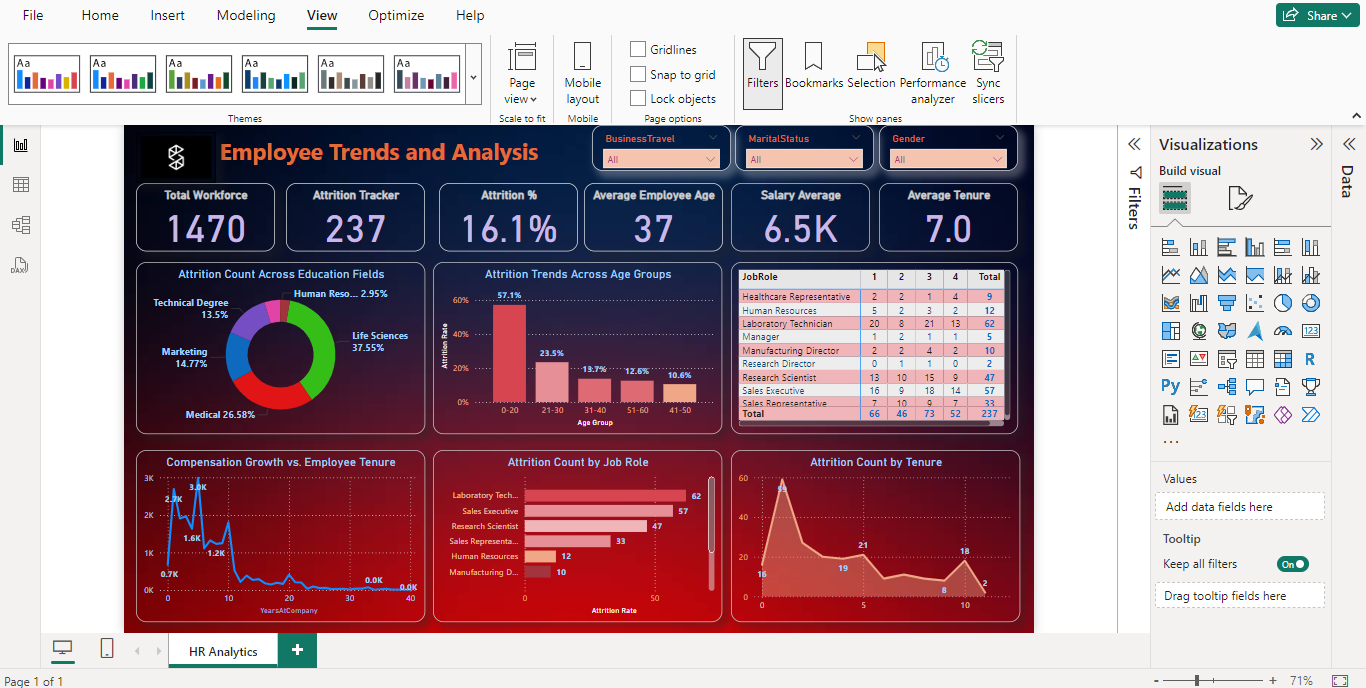

The dashboard page shown, as its layout file describes it:
{"tool":"powerbi","page":{"name":"HR Analytics","canvas":[1290,720],"ordinal":0},"visuals":[{"type":"card","title":"Total Workforce","fields":{"Values":["Sum(HR Data.EmployeeCount)"]},"box":[16.8,82.3,196.5,97.4],"z":0},{"type":"card","title":"Attrition Tracker","fields":{"Values":["Sum(HR Data.Attrition_rate)"]},"box":[230.1,82.3,196.5,97.4],"z":1000},{"type":"card","title":"Attrition %","fields":{"Values":["HR Data.Attrition_Rate"]},"box":[446.8,82.3,196.5,97.4],"z":2000},{"type":"card","title":"Average Employee Age","fields":{"Values":["Avg(HR Data.Age)"]},"box":[651.8,82.3,196.5,97.4],"z":3000},{"type":"card","title":"Salary Average","fields":{"Values":["Avg(HR Data.MonthlyIncome)"]},"box":[860.1,82.3,196.5,97.4],"z":4000},{"type":"card","title":"Average Tenure","fields":{"Values":["Avg(HR Data.YearsAtCompany)"]},"box":[1070,82.3,196.5,97.4],"z":5000},{"type":"donutChart","title":"Attrition Count Across Education Fields","fields":{"Category":["HR Data.EducationField"],"Y":["Sum(HR Data.Attrition_Count)"]},"box":[16.8,194.9,409.9,243.6],"z":6000},{"type":"clusteredColumnChart","title":"Attrition Trends Across Age Groups","fields":{"Category":["HR Data.AgeGroup"],"Y":["HR Data.Attrition_Rate"]},"box":[438.4,194.9,409.9,243.6],"z":7000},{"type":"pivotTable","title":"Attrition Trends Across Age Groups","fields":{"Rows":["HR Data.JobRole"],"Columns":["HR Data.JobSatisfaction"],"Values":["Sum(HR Data.Attrition_Count)"]},"box":[860.1,194.9,406.5,243.6],"z":8000},{"type":"lineChart","title":"Compensation Growth vs. Employee Tenure","fields":{"Category":["HR Data.YearsAtCompany"],"Y":["Sum(HR Data.PercentSalaryHike)"],"Series":["HR Data.EmployeeCount"]},"box":[16.8,460.3,409.9,243.6],"z":8001},{"type":"barChart","title":"Attrition Count by Job Role","fields":{"Category":["HR Data.JobRole"],"Y":["Sum(HR Data.Attrition_Count)"]},"box":[438.4,460.3,409.9,243.6],"z":8002},{"type":"lineChart","title":"Attrition Count by Tenure","fields":{"Category":["HR Data.YearsAtCompany"],"Y":["Sum(HR Data.Attrition_Count)"]},"box":[860.1,460.3,409.9,243.6],"z":8003},{"type":"slicer","fields":{"Values":["HR Data.Gender"]},"box":[1070.1,0,197,65.2],"z":8004},{"type":"slicer","fields":{"Values":["HR Data.MaritalStatus"]},"box":[866,0,197,65.2],"z":8005},{"type":"slicer","fields":{"Values":["HR Data.BusinessTravel"]},"box":[663.3,0,197,65.2],"z":8006},{"type":"textbox","box":[130.4,9.9,483.3,72.3],"z":8007},{"type":"image","box":[17,9.9,113.4,72.3],"z":8008}]}

Visuals, with their boxes on the page's 1290x720 design canvas (x1, y1, x2, y2). These are canvas units, not pixel positions in the 1366x688 screenshot, which may show the page scaled, cropped or inside an application window:
"Total Workforce" card: <bbox>17, 82, 213, 180</bbox>
"Attrition Tracker" card: <bbox>230, 82, 427, 180</bbox>
"Attrition %" card: <bbox>447, 82, 643, 180</bbox>
"Average Employee Age" card: <bbox>652, 82, 848, 180</bbox>
"Salary Average" card: <bbox>860, 82, 1057, 180</bbox>
"Average Tenure" card: <bbox>1070, 82, 1266, 180</bbox>
"Attrition Count Across Education Fields" donutChart: <bbox>17, 195, 427, 438</bbox>
"Attrition Trends Across Age Groups" clusteredColumnChart: <bbox>438, 195, 848, 438</bbox>
"Attrition Trends Across Age Groups" pivotTable: <bbox>860, 195, 1267, 438</bbox>
"Compensation Growth vs. Employee Tenure" lineChart: <bbox>17, 460, 427, 704</bbox>
"Attrition Count by Job Role" barChart: <bbox>438, 460, 848, 704</bbox>
"Attrition Count by Tenure" lineChart: <bbox>860, 460, 1270, 704</bbox>
slicer - HR Data.Gender: <bbox>1070, 0, 1267, 65</bbox>
slicer - HR Data.MaritalStatus: <bbox>866, 0, 1063, 65</bbox>
slicer - HR Data.BusinessTravel: <bbox>663, 0, 860, 65</bbox>
textbox: <bbox>130, 10, 614, 82</bbox>
image: <bbox>17, 10, 130, 82</bbox>
